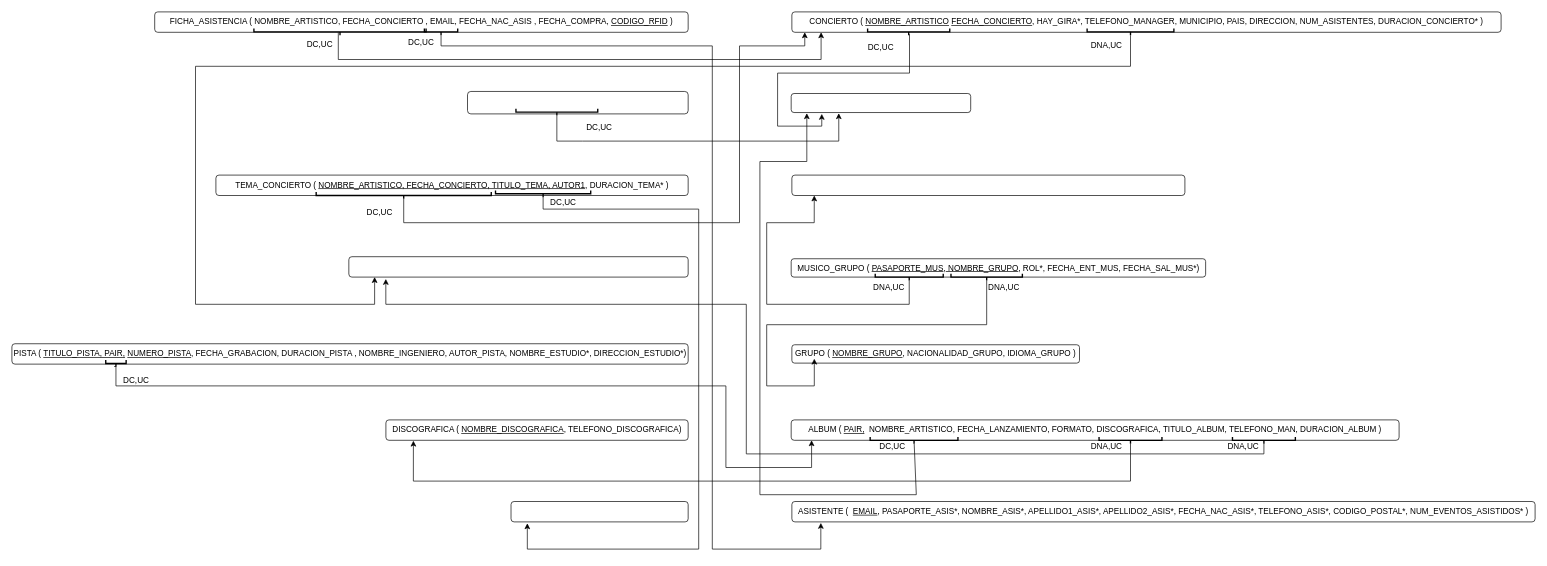
The diagram is 1547 pixels wide and 566 high, and some of its shapes have lost their labels. Here are the shapes that lost their labels. From the top down, the box of each, then its label:
(467, 91, 688, 114): GIRA ( NOMBRE_ARTISTICO, NOMBRE_GIRA )
(790, 93, 971, 113): INTERPRETE ( NOMBRE_ARTISTICO, TIPO )
(791, 174, 1185, 196): MUSICO ( PASAPORTE_MUS , NOMBRE_MUS, NACIONALIDAD_MUS, FECHA_NAC_MUS, IDIOMA )
(348, 256, 688, 277): MANAGER ( TELEFONO_MAN , NOMBRE_MAN, APELLIDO1_MAN, APELLIDO2_MAN* )
(510, 501, 688, 522): TEMA ( TITULO_TEMA, AUTOR1 , AUTOR2* )
